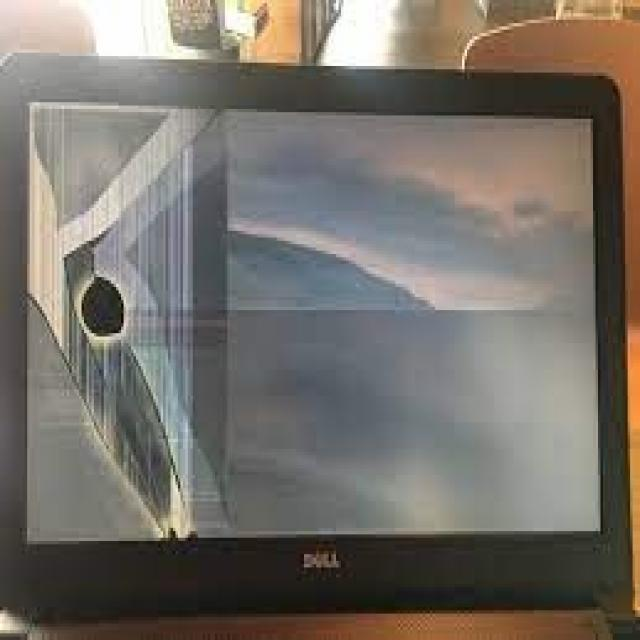Screen cracks: (27, 102, 232, 541)
